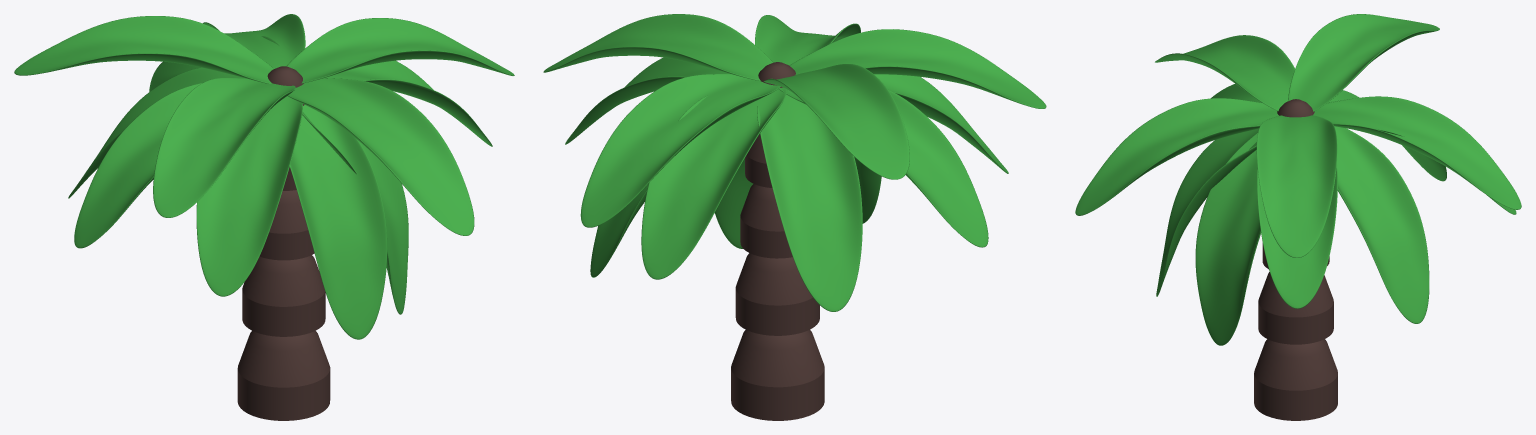
The model's file is tree2.fbx.
3 views of the same model, side by side, from view 1: azimuth 30°, elevation 25°; view 2: azimuth 150°, elevation 25°; view 3: azimuth 270°, elevation 25° (orthographic). The views are drawn at different scales.
Visible parts, largest first — view 1: pCylinder32, pDisc17, pDisc15, pDisc18, pDisc14, pDisc25, pDisc16, pDisc22, pDisc19, pDisc20, pDisc23, pDisc26 (+1 smaller); view 2: pCylinder32, pDisc26, pDisc23, pDisc24, pDisc25, pDisc14, pDisc16, pDisc22, pDisc18, pDisc20, pDisc15, pDisc21 (+2 smaller); view 3: pCylinder32, pDisc21, pDisc16, pDisc19, pDisc15, pDisc23, pDisc25, pDisc14, pDisc17, pDisc20, pDisc26, pDisc18.
Boxes of the visible parts, x1,y1,x2,y2 form: pCylinder32: [237, 66, 330, 420]; pDisc17: [289, 105, 387, 339]; pDisc15: [287, 78, 474, 235]; pDisc18: [196, 96, 302, 296]; pDisc14: [153, 78, 295, 217]; pDisc25: [14, 16, 273, 83]; pDisc16: [286, 18, 514, 83]; pDisc22: [74, 83, 201, 248]; pDisc19: [302, 112, 408, 314]; pDisc20: [325, 60, 492, 146]; pDisc23: [203, 14, 305, 68]; pDisc26: [68, 67, 244, 198]; pCylinder32: [731, 62, 824, 420]; pDisc26: [757, 94, 862, 311]; pDisc23: [580, 74, 780, 227]; pDisc24: [641, 87, 787, 279]; pDisc25: [764, 64, 909, 179]; pDisc14: [789, 29, 1046, 108]; pDisc16: [543, 14, 772, 80]; pDisc22: [778, 88, 988, 247]; pDisc18: [874, 74, 1008, 173]; pDisc20: [565, 57, 729, 144]; pDisc15: [755, 15, 860, 65]; pDisc21: [590, 183, 648, 277]; pCylinder32: [1254, 99, 1337, 420]; pDisc21: [1334, 126, 1429, 323]; pDisc16: [1256, 115, 1337, 257]; pDisc19: [1195, 132, 1260, 345]; pDisc15: [1075, 98, 1278, 215]; pDisc23: [1313, 96, 1521, 209]; pDisc25: [1288, 14, 1439, 111]; pDisc14: [1155, 35, 1294, 111]; pDisc17: [1156, 128, 1258, 296]; pDisc20: [1257, 165, 1337, 308]; pDisc26: [1329, 90, 1446, 181]; pDisc18: [1210, 84, 1261, 102].
Bounding box in the file's own units: 10.87 × 8.65 × 10.62.
